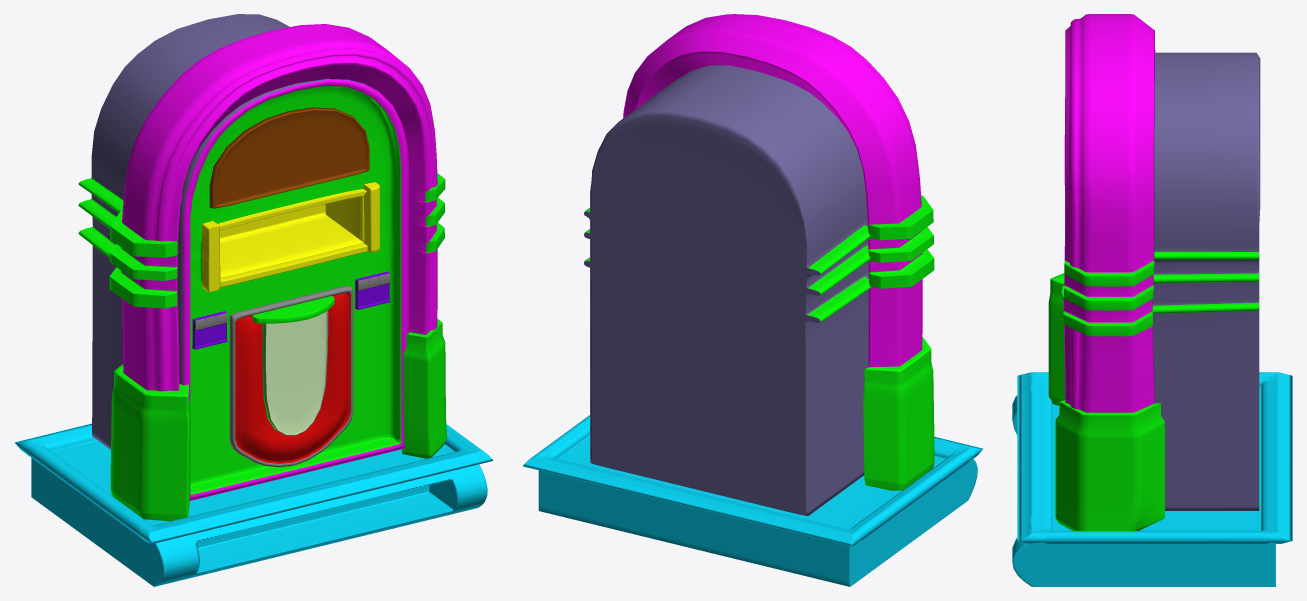
File: JukeBox (1).fbx
The picture shows the model from 3 angles, left to right: view 1: azimuth 30°, elevation 25°; view 2: azimuth 150°, elevation 25°; view 3: azimuth 270°, elevation 25°; orthographic projection. The views are drawn at different scales.
Visible parts, largest first — view 1: JukeBox1; view 2: JukeBox1; view 3: JukeBox1.
Part boxes in pixels (x1,y1,x2,y2): JukeBox1: (14, 14, 493, 586); JukeBox1: (523, 14, 982, 586); JukeBox1: (1012, 14, 1292, 586).
Bounding box in the file's own units: 518 × 694 × 372.
